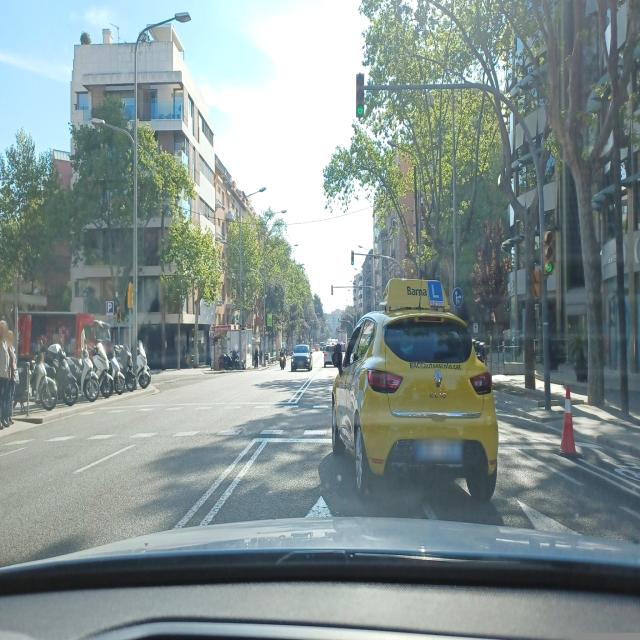bike: (13, 352, 58, 412), (38, 346, 78, 407), (81, 352, 113, 397), (96, 351, 125, 393), (279, 353, 286, 370)
car: (330, 276, 498, 501), (290, 344, 312, 372), (217, 352, 234, 372), (230, 350, 245, 370), (323, 346, 335, 368)
